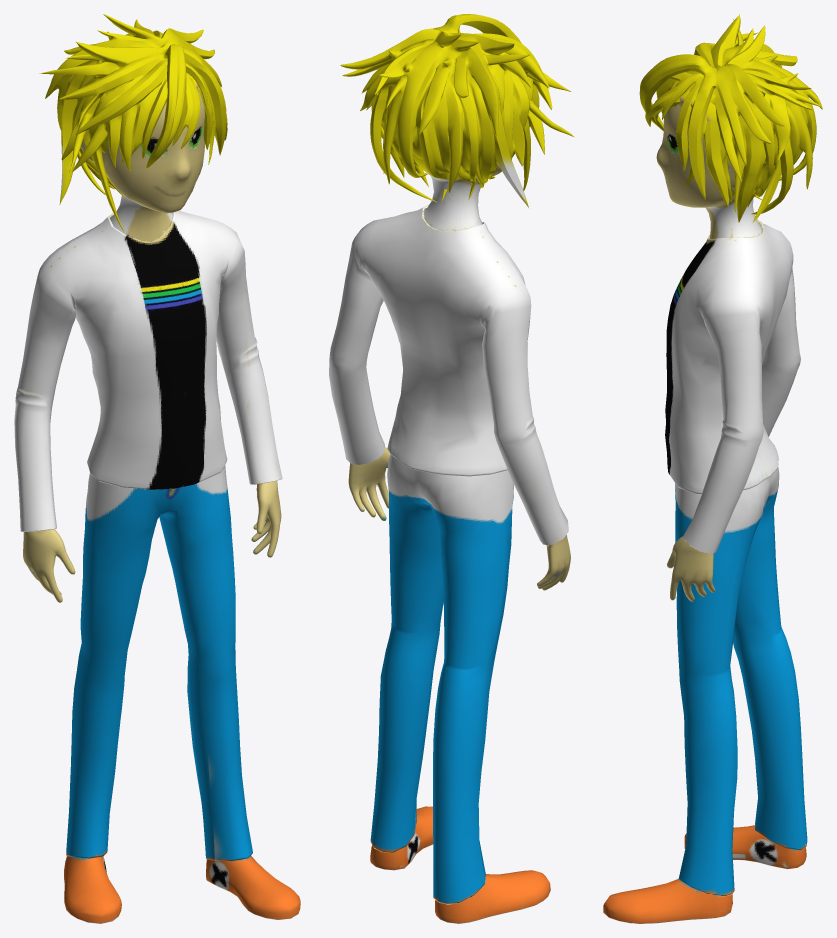
The model's file is newedrien.glb.
The picture shows the model from 3 angles, left to right: view 1: azimuth 30°, elevation 25°; view 2: azimuth 150°, elevation 25°; view 3: azimuth 270°, elevation 25°; orthographic projection. The views are drawn at different scales.
Parts seen in each view (by area): view 1: Object_1, node_id34; view 2: Object_1, node_id34; view 3: Object_1, node_id34.
Boxes of the visible parts, x1=… form: Object_1: x1=14, y1=74, x2=300, y2=923; node_id34: x1=39, y1=14, x2=227, y2=232; Object_1: x1=329, y1=70, x2=570, y2=923; node_id34: x1=340, y1=14, x2=574, y2=207; Object_1: x1=603, y1=81, x2=807, y2=923; node_id34: x1=639, y1=14, x2=822, y2=222.
Bounding box in the file's own units: 0.5645 × 1.98 × 0.4695.
2 materials, 2 textured.
